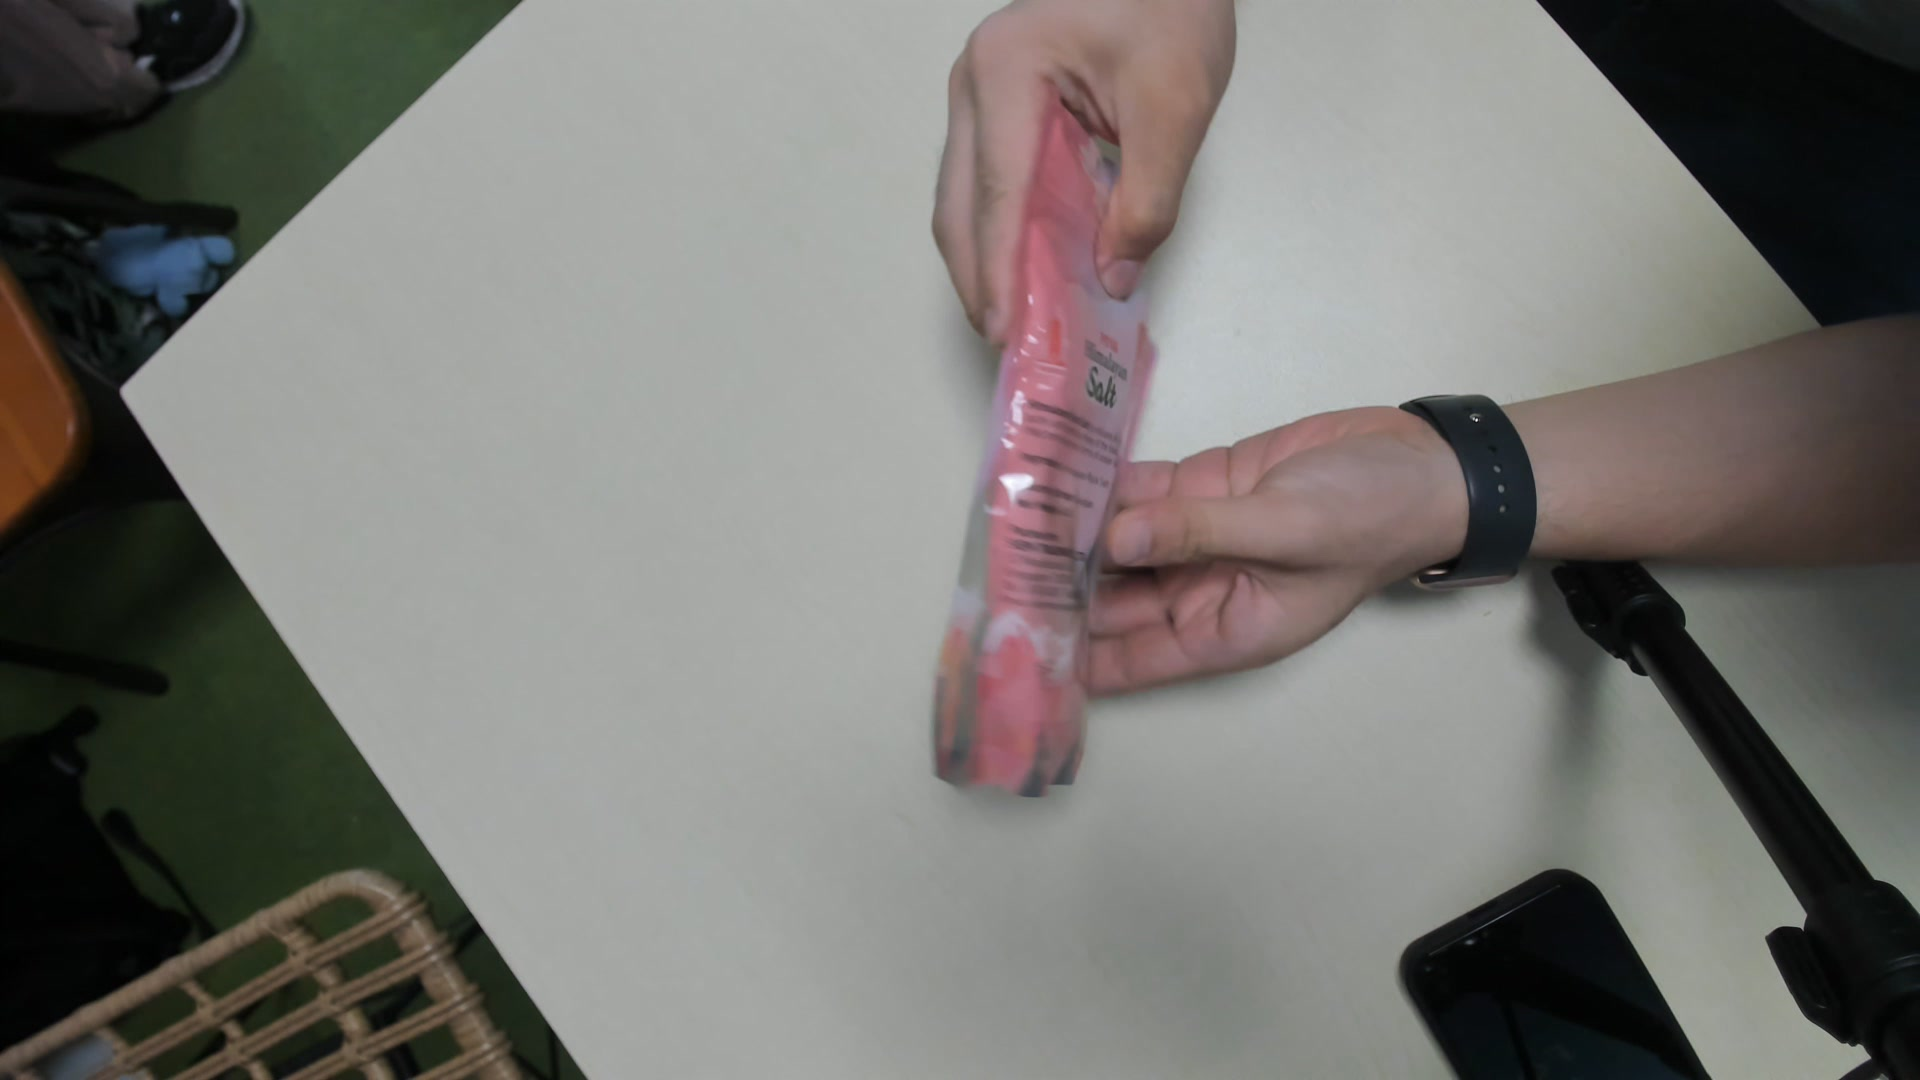Salt_400-499g_NonHalal_NonHealthy: (928, 107, 1149, 799)
